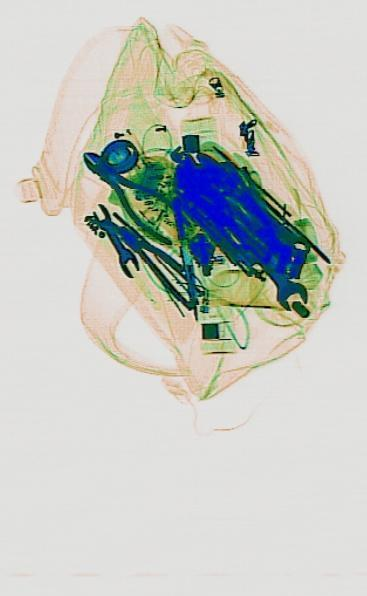Pliers: (73, 132, 193, 259), (113, 212, 199, 310)
Wrench: (234, 218, 311, 324), (89, 197, 141, 281)
